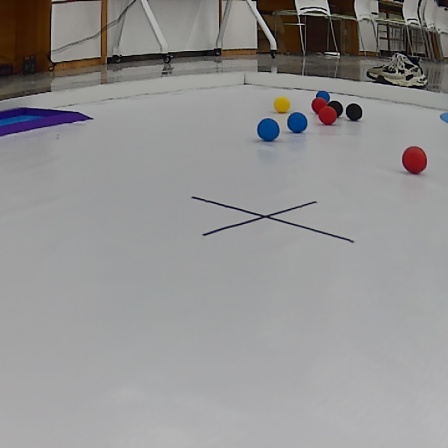black: (346, 104, 364, 124), (328, 97, 344, 117)
blue: (257, 119, 282, 141), (288, 113, 310, 133), (317, 89, 332, 101)
blue_aim: (2, 102, 95, 140)
red: (400, 145, 429, 175), (321, 109, 340, 129), (310, 94, 328, 111)
yellow: (273, 95, 290, 110)
